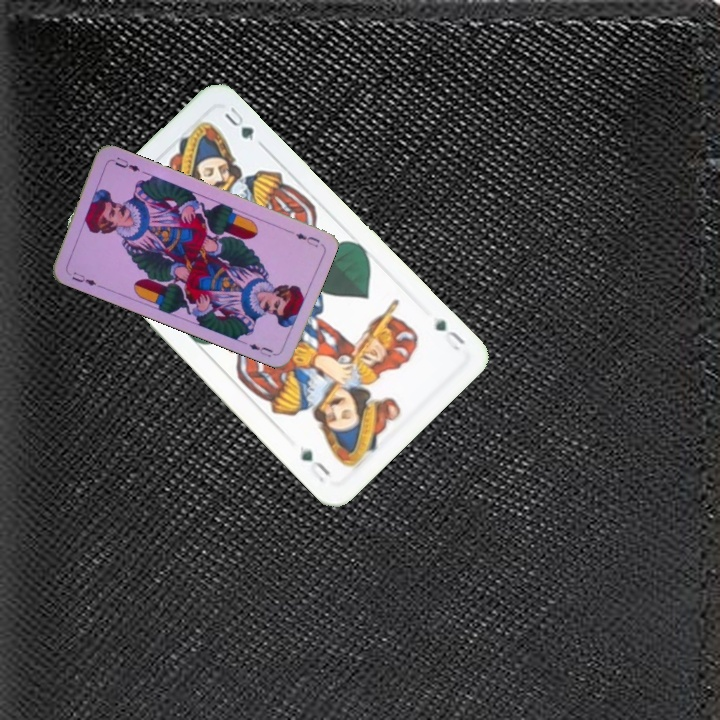EU: (64, 268, 99, 289), (291, 229, 322, 250)
GU: (431, 315, 468, 354)
